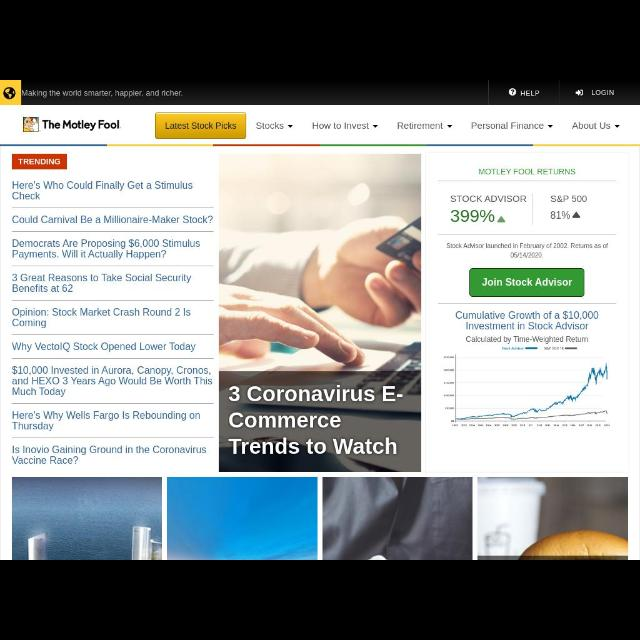icon: (2, 87, 16, 99), (572, 211, 582, 219), (496, 215, 506, 223), (508, 88, 516, 95), (576, 90, 584, 96), (286, 124, 294, 128), (372, 124, 380, 128), (614, 124, 620, 128), (547, 124, 553, 128), (447, 125, 453, 129)
image: (218, 154, 420, 370), (442, 354, 614, 430), (167, 476, 315, 560), (478, 476, 628, 558), (324, 477, 471, 559), (14, 477, 160, 559), (23, 118, 39, 132)
multitab: (256, 122, 622, 132)
spinner: (472, 122, 554, 130), (312, 122, 380, 130), (397, 122, 453, 130), (571, 122, 621, 130), (256, 122, 296, 130)
text: (228, 386, 408, 456), (12, 366, 214, 398), (12, 238, 202, 260), (12, 411, 202, 433), (12, 446, 208, 466), (12, 181, 194, 201), (11, 274, 192, 294), (12, 308, 192, 328), (455, 311, 599, 331), (446, 243, 608, 259), (12, 341, 196, 353), (12, 214, 214, 223), (21, 90, 182, 98), (466, 336, 588, 344), (42, 120, 122, 132), (482, 278, 572, 288), (478, 168, 576, 176), (451, 194, 527, 203), (450, 209, 494, 223), (165, 122, 237, 130), (472, 122, 544, 130), (312, 122, 370, 130), (397, 122, 443, 130), (571, 122, 611, 130), (550, 195, 588, 203), (18, 159, 60, 165), (256, 123, 284, 129), (550, 212, 570, 220), (592, 90, 614, 96), (521, 90, 539, 96)
textbutton: (470, 268, 584, 298), (154, 113, 248, 139), (12, 154, 66, 170)
toolbar: (2, 80, 640, 148)
